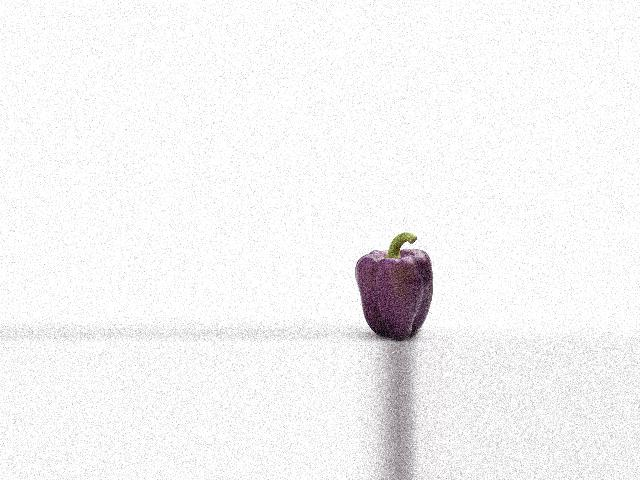bell_pepper: (349, 234, 441, 338)
